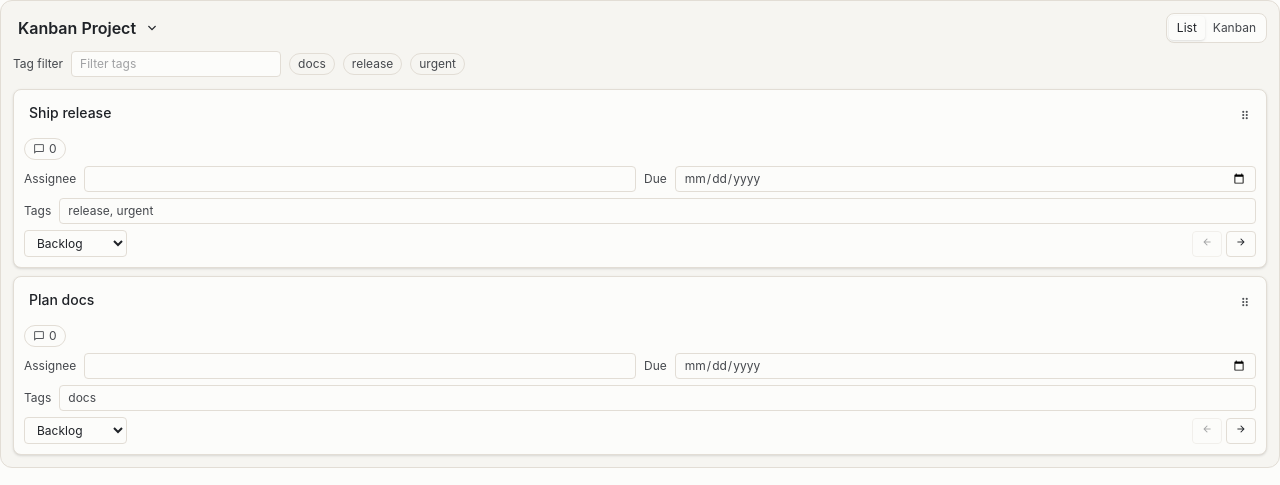
Test: ProjectCollaborationWorkspace (kanban integration) › filters cards by tag and clears the filter
expect the 1st field showing "Ship release" is shown: met, box [24, 100, 1226, 126]
expect the 2nd field showing "Plan docs" is shown: met, box [24, 287, 1226, 313]
Step 1. Type "urgent" into the field with placeholder "Filter tags" → point(176, 64), box [71, 51, 281, 77]
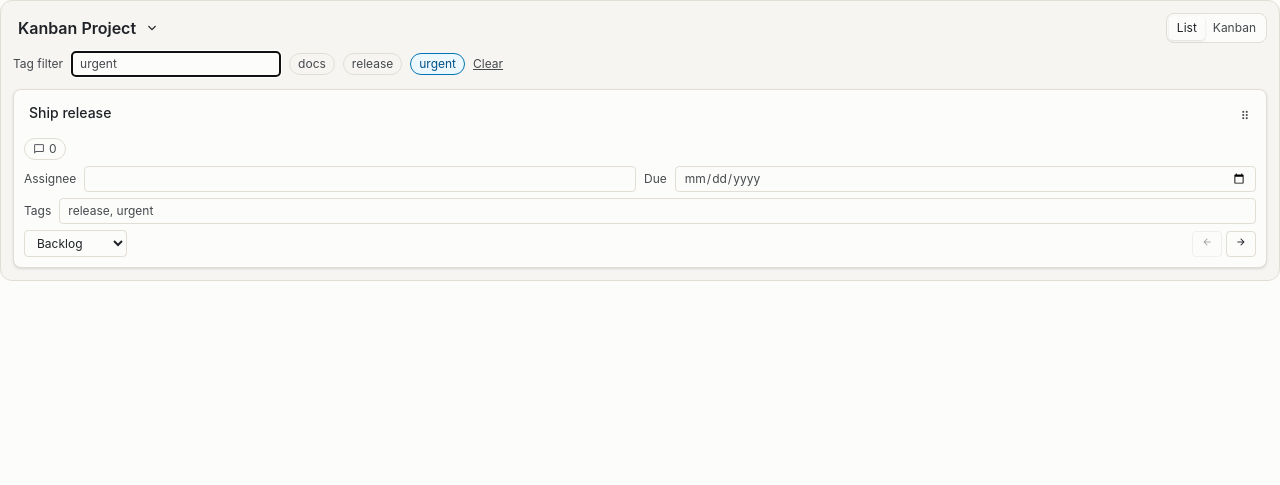
expect the field showing "Ship release" is shown: met, box [24, 100, 1226, 126]
expect the field showing "Plan docs" is not shown: met
Step 2. Click the button "Clear" → point(488, 64), box [473, 56, 503, 72]
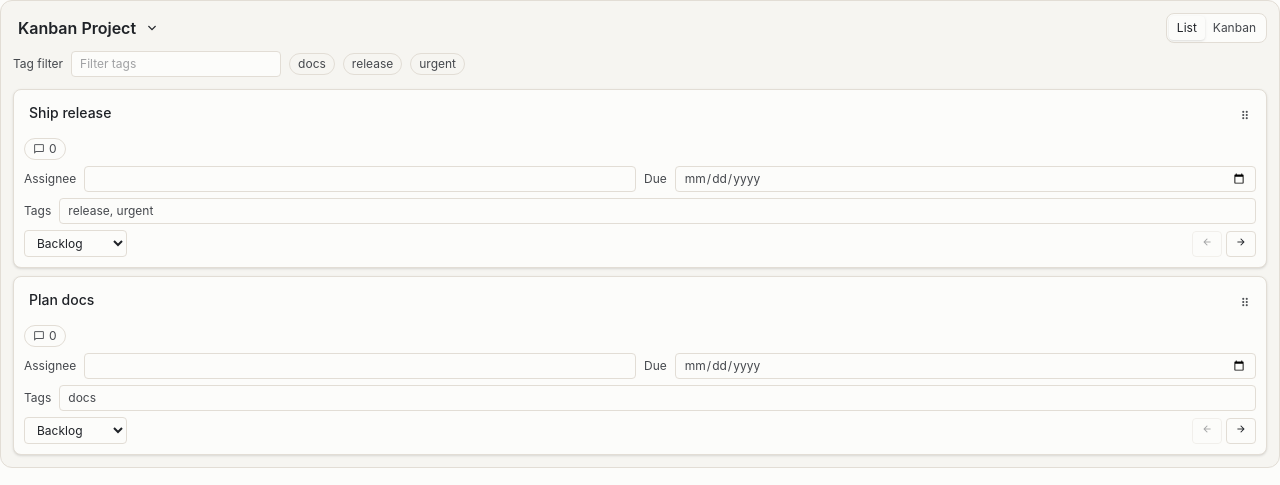
expect the 1st field showing "Ship release" is shown: met, box [24, 100, 1226, 126]
expect the 2nd field showing "Plan docs" is shown: met, box [24, 287, 1226, 313]
